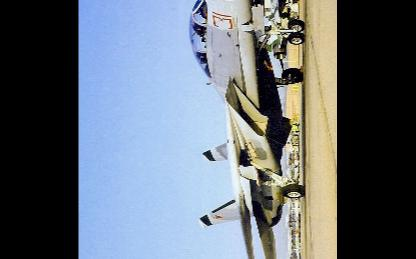EF2000: (189, 0, 307, 257)
F14: (262, 0, 300, 71)
